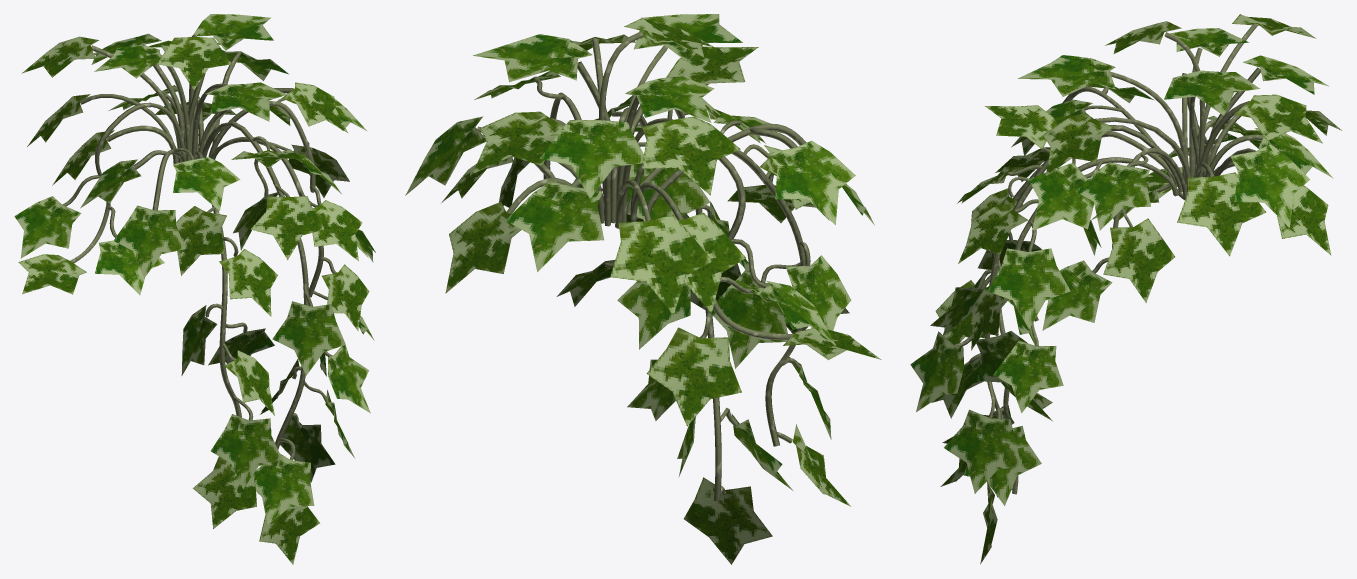
The model's file is Plant_H.fbx.
The picture shows the model from 3 angles, left to right: view 1: azimuth 30°, elevation 25°; view 2: azimuth 150°, elevation 25°; view 3: azimuth 270°, elevation 25°; orthographic projection. The views are drawn at different scales.
Visible parts, largest first — view 1: Plant_HHH1, Plant_HHH2; view 2: Plant_HHH1, Plant_HHH2; view 3: Plant_HHH1, Plant_HHH2.
Part boxes in pixels (x1,y1,x2,y2): Plant_HHH1: (14,14,368,316); Plant_HHH2: (181,185,375,564); Plant_HHH1: (405,14,881,359); Plant_HHH2: (556,117,851,564); Plant_HHH1: (957,14,1341,330); Plant_HHH2: (910,172,1070,564).
Size of the model in its own units: 0.2995 by 0.42 by 0.3133.
